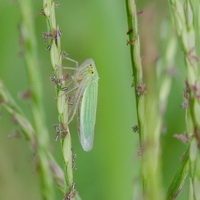insect: (51, 52, 98, 150)
